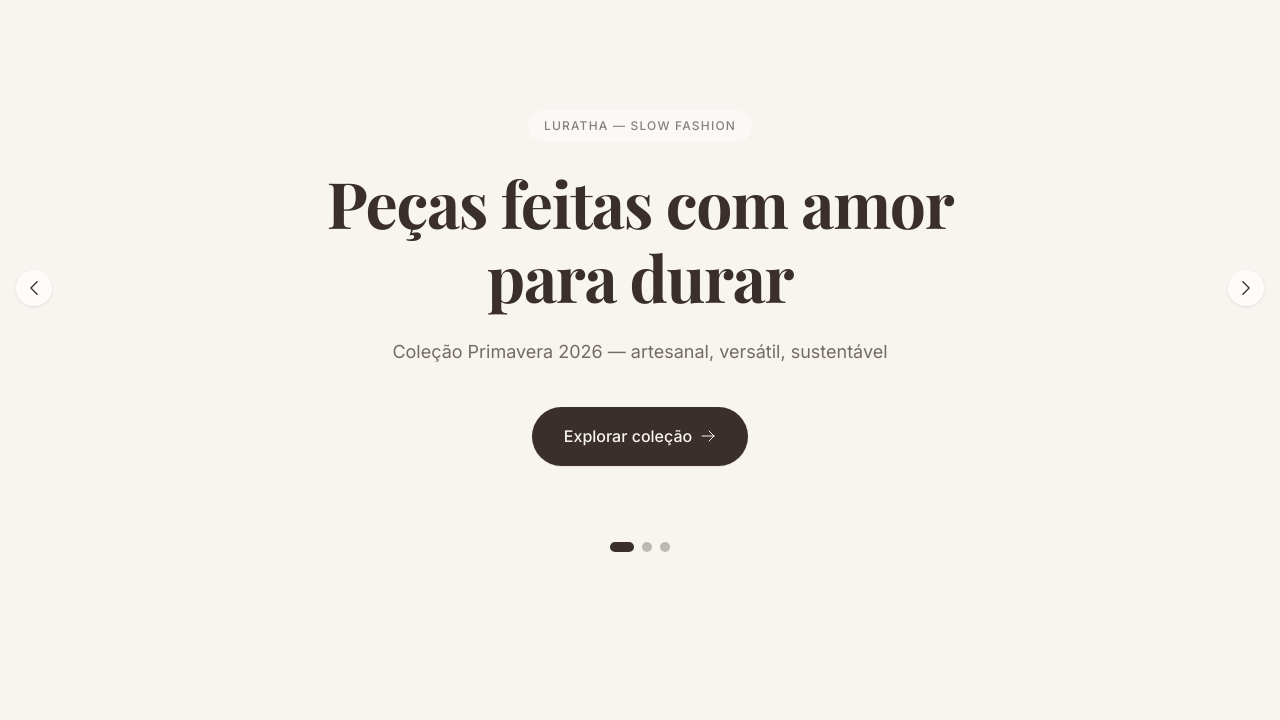
Test: HeroBanner › advances to next slide when next button is clicked
This screenshot has width=1280, height=720.
Click the button named "Próximo slide": {"x": 1246, "y": 288} [1228,270,1264,306]
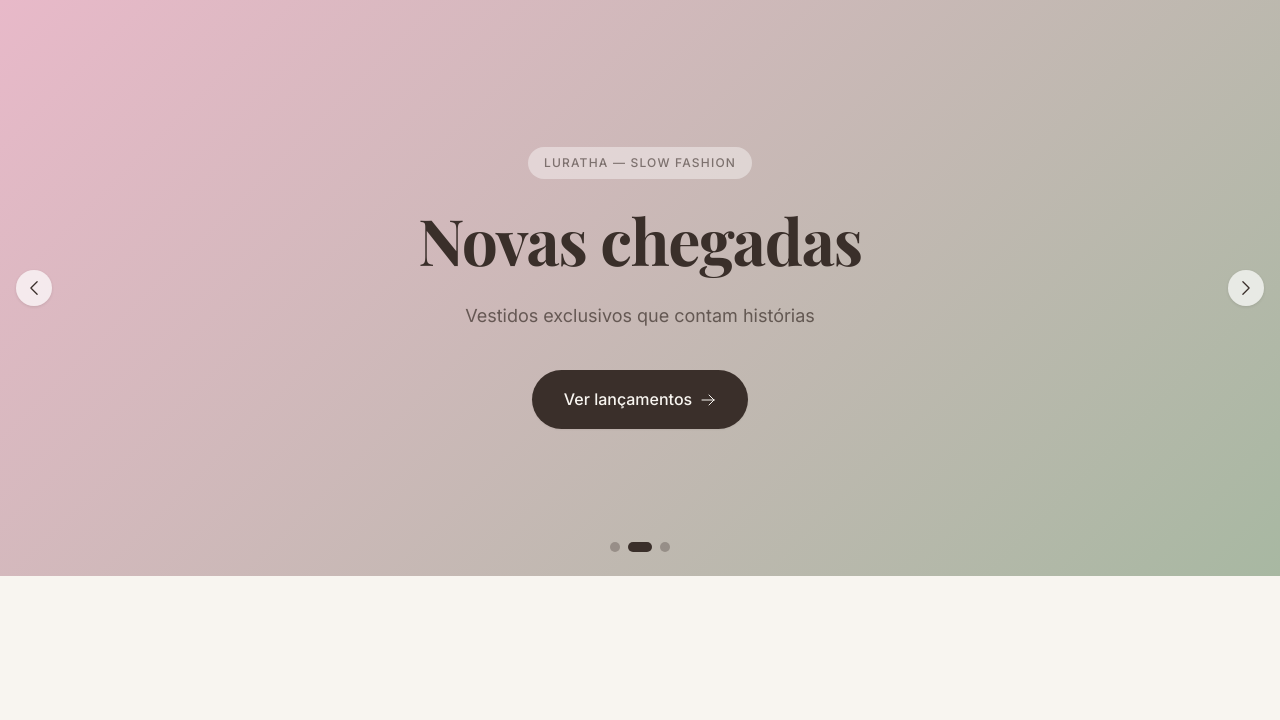
Result: the heading "Novas chegadas" is shown at [418,203,862,277]
